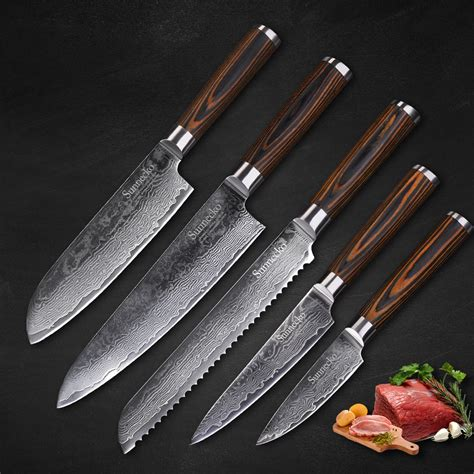knife: (119, 99, 423, 454), (56, 53, 355, 409), (23, 23, 282, 345), (189, 163, 440, 446), (255, 208, 472, 443)
